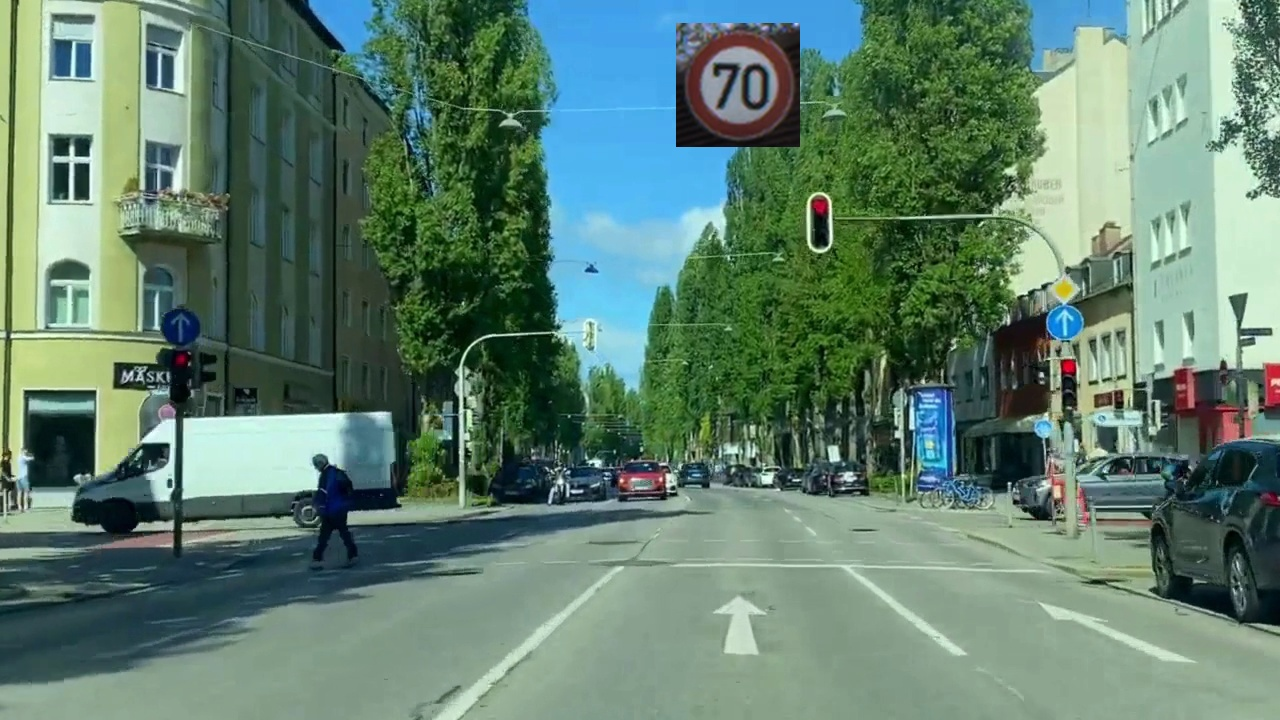Speed 70: (676, 23, 800, 147)
